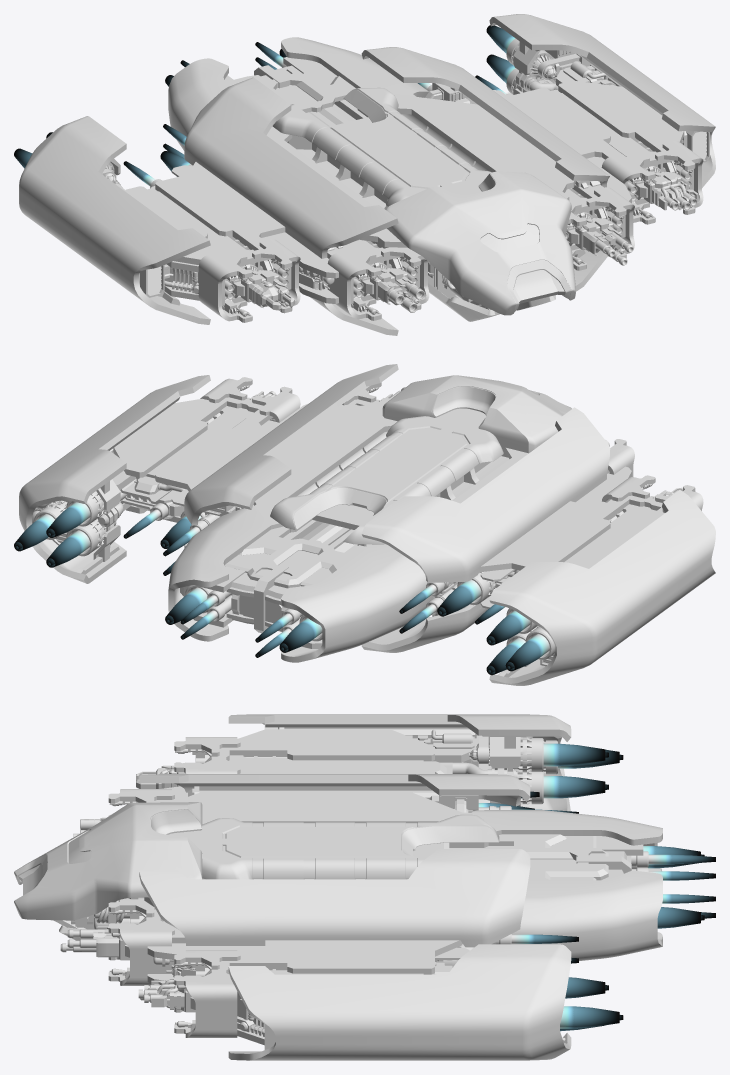
The model's file is Vehicle_SpaceCraft_FTL_Rebel_Flagship_Final.fbx.
3 renders of one model, top to bottom at view 1: azimuth 30°, elevation 25°; view 2: azimuth 150°, elevation 25°; view 3: azimuth 270°, elevation 25°, orthographic. The views are drawn at different scales.
Parts seen in each view (by area): view 1: Hull_Plating_Mirrored, Cockpit, Hull_Plating, WeaponHardpoint_Outer, Mirror_XZ, Mirror_X, WeaponHardpoint_Inner, Weapon_Beam, Weapon_Ion, Trail.001, Ribs_Inner, Ribs_Outer (+4 smaller); view 2: Hull_Plating_Mirrored, Hull_Plating, Cockpit, Mirror_XZ, WeaponHardpoint_Outer, Trail.001, Mirror_X, Trail, Trail.003, Trail_Sml.002, Engine.001, Trail.002 (+5 smaller); view 3: Hull_Plating_Mirrored, Cockpit, Hull_Plating, Mirror_XZ, WeaponHardpoint_Outer, WeaponHardpoint_Inner, Ribs_Inner, Mirror_X, Trail.001, Ribs_Outer, Trail_Sml.002, Trail (+6 smaller).
Part boxes in pixels (x1,y1,x2,y2): Hull_Plating_Mirrored: (19, 14, 715, 335); Cockpit: (272, 87, 575, 315); Hull_Plating: (168, 37, 575, 321); WeaponHardpoint_Outer: (152, 93, 703, 322); Mirror_XZ: (102, 41, 709, 297); Mirror_X: (147, 109, 706, 312); WeaponHardpoint_Inner: (327, 187, 634, 320); Weapon_Beam: (248, 272, 294, 310); Weapon_Ion: (651, 174, 698, 210); Trail.001: (46, 25, 515, 138); Ribs_Inner: (327, 83, 600, 257); Ribs_Outer: (139, 50, 687, 305); Hull_Plating_Mirrored: (19, 364, 715, 685); Hull_Plating: (168, 398, 528, 662); Cockpit: (270, 375, 571, 544); Mirror_XZ: (32, 420, 607, 677); WeaponHardpoint_Outer: (145, 377, 703, 563); Trail.001: (46, 502, 530, 675); Mirror_X: (290, 389, 539, 546); Trail: (14, 514, 549, 671); Trail.003: (165, 587, 322, 652); Trail_Sml.002: (180, 595, 292, 657); Engine.001: (66, 491, 538, 645); Trail.002: (160, 516, 481, 616); Hull_Plating_Mirrored: (139, 714, 571, 1060); Cockpit: (14, 802, 499, 920); Hull_Plating: (59, 792, 662, 960); Mirror_XZ: (253, 724, 643, 1049); WeaponHardpoint_Outer: (174, 737, 423, 1037); WeaponHardpoint_Inner: (108, 789, 174, 985); Ribs_Inner: (180, 781, 478, 812); Mirror_X: (14, 830, 488, 1036); Trail.001: (543, 743, 608, 1031); Ribs_Outer: (265, 721, 525, 744); Trail_Sml.002: (648, 854, 715, 918); Trail: (558, 749, 623, 1028).
Bounding box in the file's own units: 5814 × 1212 × 5642.
